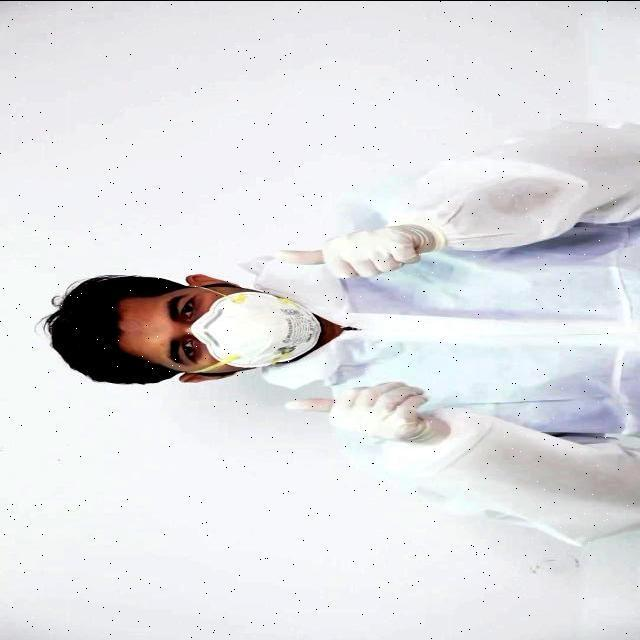apron: (272, 383, 452, 455), (282, 214, 433, 280)
mask: (202, 290, 316, 382)
